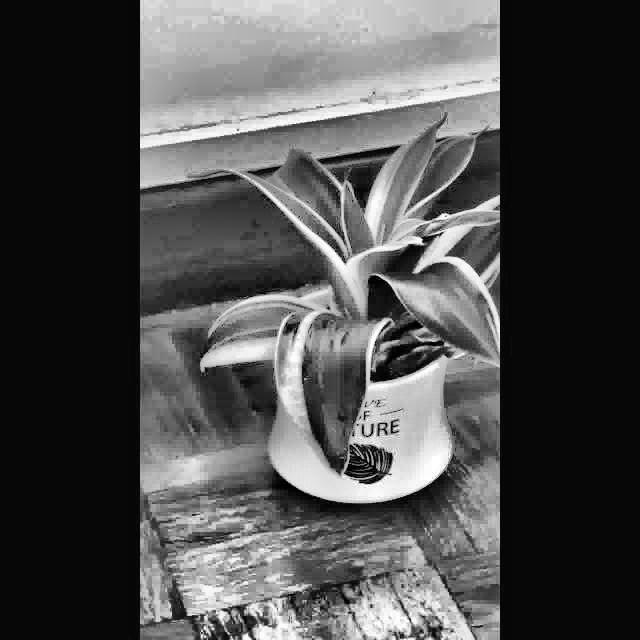plants: (185, 109, 500, 511)
